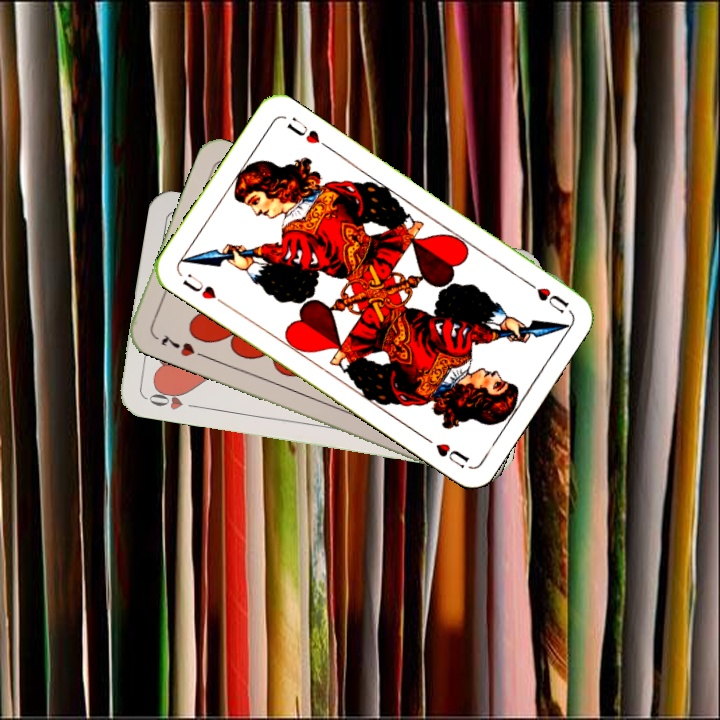H7: (157, 330, 197, 360)
HO: (142, 384, 201, 413)
HU: (520, 276, 571, 316), (178, 270, 228, 308)
